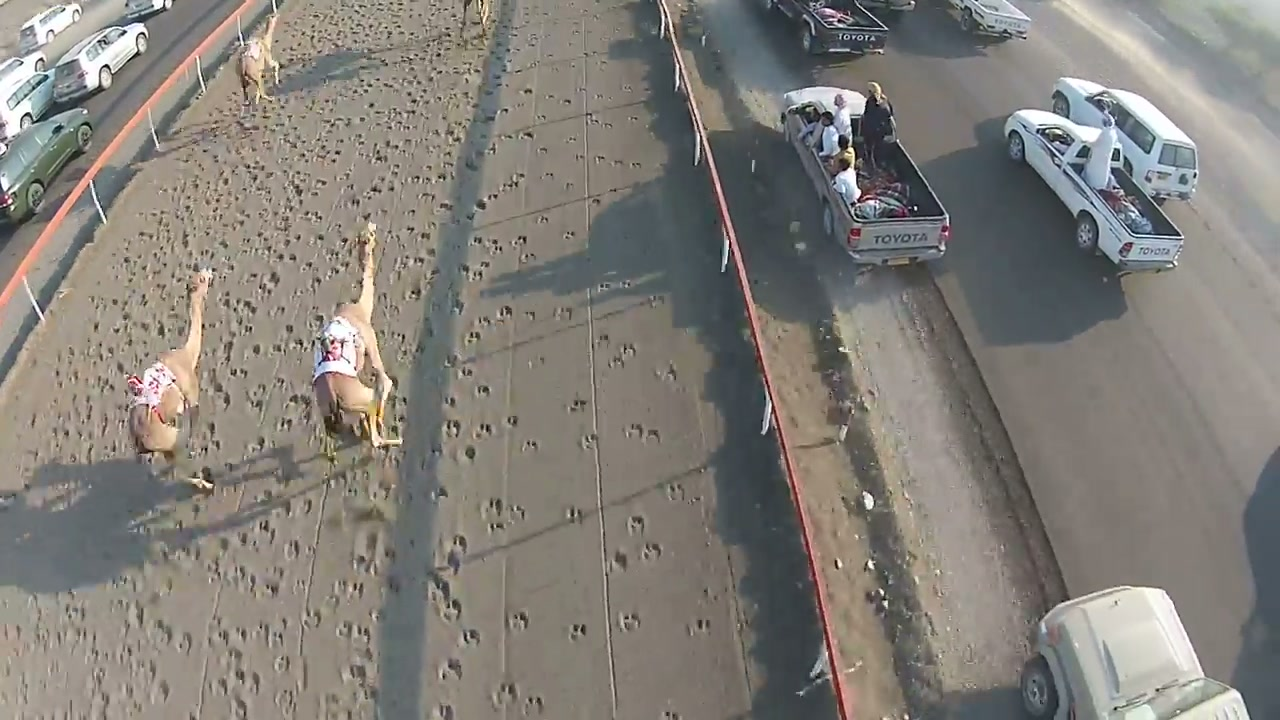animal_foot_print: (157, 15, 368, 715), (326, 66, 506, 715)
